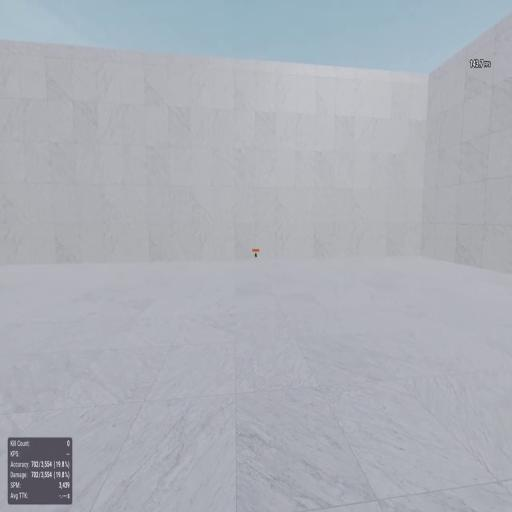Crosshair: (255, 255, 257, 258)
Target: (255, 253, 256, 257)
